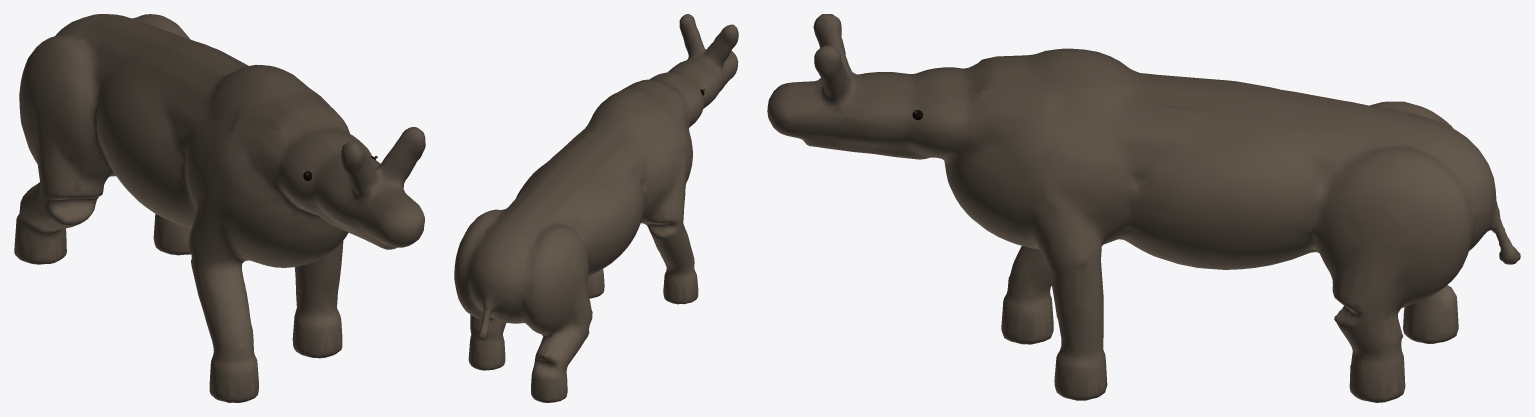
File: MegaceropsColoradensis.fbx
The picture shows the model from 3 angles, left to right: view 1: azimuth 30°, elevation 25°; view 2: azimuth 150°, elevation 25°; view 3: azimuth 270°, elevation 25°; orthographic projection. The views are drawn at different scales.
Visible parts, largest first — view 1: MegaceropsColoradensis; view 2: MegaceropsColoradensis; view 3: MegaceropsColoradensis.
Part boxes in pixels (x1=…): MegaceropsColoradensis: x1=14, y1=14, x2=425, y2=402; MegaceropsColoradensis: x1=454, y1=14, x2=738, y2=402; MegaceropsColoradensis: x1=767, y1=14, x2=1520, y2=402.
Size of the model in its own units: 0.6146 by 1.11 by 2.26.
